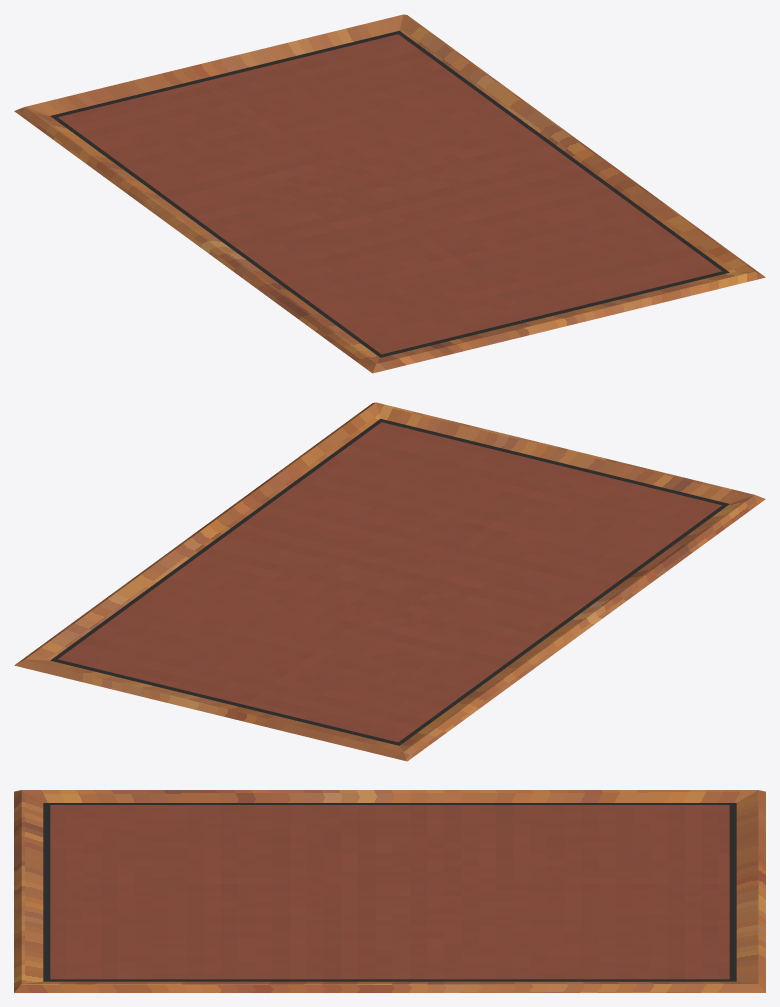
The model's file is OldCarpet.glb.
3 views of the same model, one above another, from view 1: azimuth 30°, elevation 25°; view 2: azimuth 150°, elevation 25°; view 3: azimuth 270°, elevation 25° (orthographic). The views are drawn at different scales.
Parts seen in each view (by area): view 1: OldCarpet2; view 2: OldCarpet2; view 3: OldCarpet2.
Boxes of the visible parts, bbox=[...] form: OldCarpet2: bbox=[14, 14, 765, 373]; OldCarpet2: bbox=[14, 402, 765, 761]; OldCarpet2: bbox=[14, 790, 765, 992].
Size of the model in its own units: 2.55 by 0.0315 by 4.02.
Materials: 1 (1 with a texture image).
